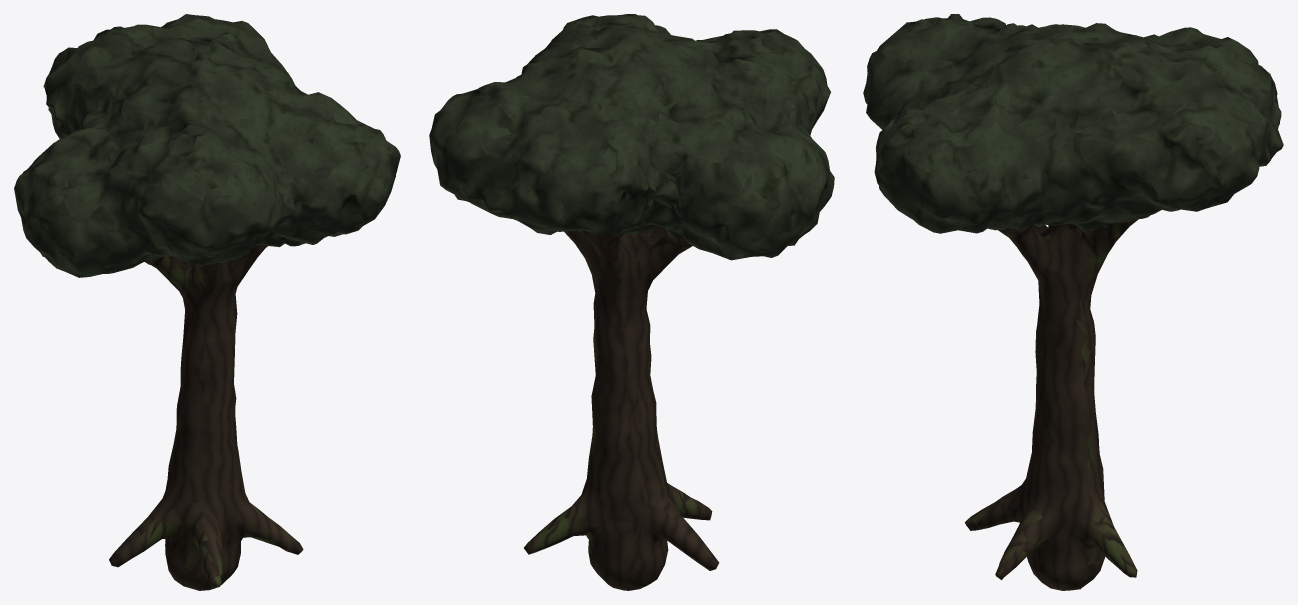
Rendered from tree.glb.
3 renders of one model, left to right at view 1: azimuth 30°, elevation 25°; view 2: azimuth 150°, elevation 25°; view 3: azimuth 270°, elevation 25°, orthographic. The views are drawn at different scales.
Parts seen in each view (by area): view 1: Base; view 2: Base; view 3: Base.
Boxes of the visible parts, x1,y1,x2,y2 form: Base: (14,14,400,590); Base: (429,14,834,590); Base: (863,14,1283,590).
Size of the model in its own units: 1.05 by 1.68 by 1.15.
2 materials, 2 textured.
